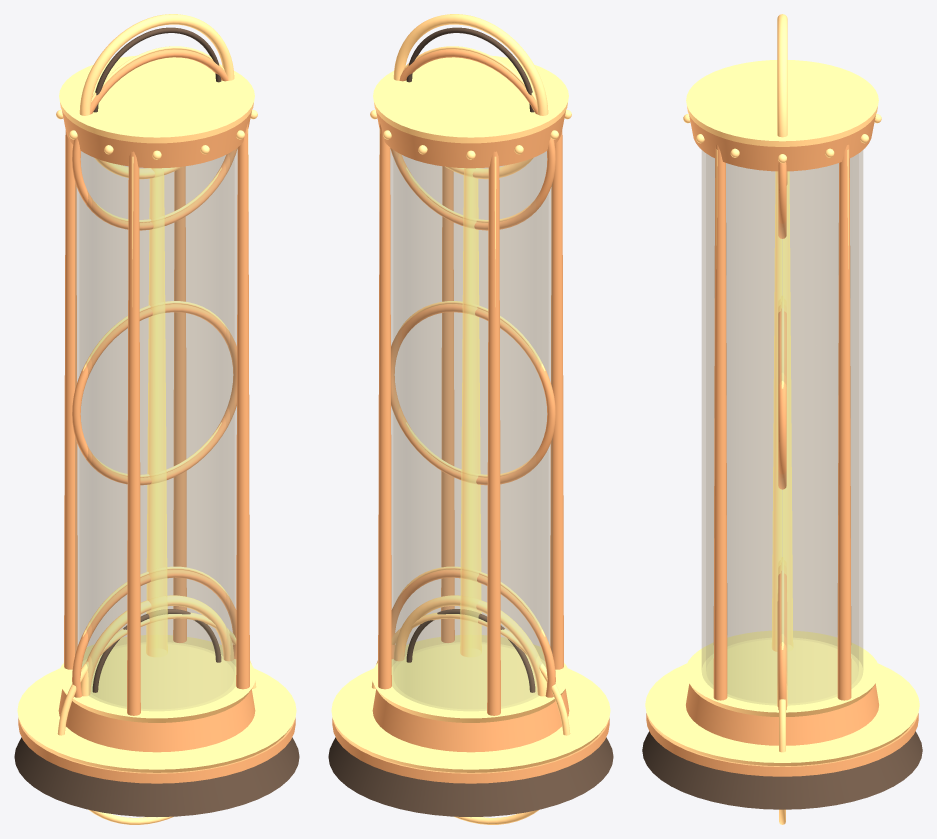
Rendered from memory-archive-tube.glb.
3 renders of one model, left to right at view 1: azimuth 30°, elevation 25°; view 2: azimuth 150°, elevation 25°; view 3: azimuth 270°, elevation 25°, orthographic.
Parts seen in each view (by area): view 1: Hand blown glass chamber, Inner glass edge, Upper ferrule highlight, Lower ferrule highlight, Champagne plinth edge, Weighted lower plinth, Inner light diffuser, Cage upright 2, Cage upright 1, Cage upright 3, Lower receiving ferrule, Cage upright 4 (+13 smaller); view 2: Hand blown glass chamber, Inner glass edge, Upper ferrule highlight, Lower ferrule highlight, Champagne plinth edge, Weighted lower plinth, Inner light diffuser, Cage upright 3, Cage upright 4, Cage upright 2, Lower receiving ferrule, Cage upright 1 (+13 smaller); view 3: Hand blown glass chamber, Inner glass edge, Upper ferrule highlight, Lower ferrule highlight, Champagne plinth edge, Weighted lower plinth, Cage upright 1, Cage upright 4, Inner light diffuser, Lower receiving ferrule, Upper ferrule, Bronze plinth band (+4 smaller).
Part boxes in pixels (<box>): Hand blown glass chamber: <box>75,148,237,710</box>; Inner glass edge: <box>80,151,233,669</box>; Upper ferrule highlight: <box>59,55,254,143</box>; Lower ferrule highlight: <box>58,635,255,722</box>; Champagne plinth edge: <box>17,668,296,772</box>; Weighted lower plinth: <box>14,737,299,816</box>; Inner light diffuser: <box>146,168,167,657</box>; Cage upright 2: <box>127,151,140,715</box>; Cage upright 1: <box>236,123,249,689</box>; Cage upright 3: <box>64,130,77,669</box>; Lower receiving ferrule: <box>58,689,255,752</box>; Cage upright 4: <box>173,166,186,642</box>; Hand blown glass chamber: <box>390,148,552,710</box>; Inner glass edge: <box>394,151,547,669</box>; Upper ferrule highlight: <box>373,55,568,143</box>; Lower ferrule highlight: <box>372,635,569,722</box>; Champagne plinth edge: <box>331,668,610,772</box>; Weighted lower plinth: <box>328,737,613,816</box>; Inner light diffuser: <box>460,168,481,657</box>; Cage upright 3: <box>487,151,500,715</box>; Cage upright 4: <box>378,123,391,689</box>; Cage upright 2: <box>550,130,563,669</box>; Lower receiving ferrule: <box>372,689,569,752</box>; Cage upright 1: <box>441,166,454,642</box>; Hand blown glass chamber: <box>702,150,862,704</box>; Inner glass edge: <box>706,154,858,666</box>; Upper ferrule highlight: <box>686,60,878,146</box>; Lower ferrule highlight: <box>685,630,879,716</box>; Champagne plinth edge: <box>645,663,919,766</box>; Weighted lower plinth: <box>642,731,922,809</box>; Cage upright 1: <box>713,144,727,700</box>; Cage upright 4: <box>837,144,851,700</box>; Inner light diffuser: <box>771,171,793,651</box>; Lower receiving ferrule: <box>686,684,878,745</box>; Upper ferrule: <box>689,115,875,171</box>; Bronze plinth band: <box>646,713,918,776</box>.
Size of the model in its own units: 1.44 by 4.49 by 1.44.
